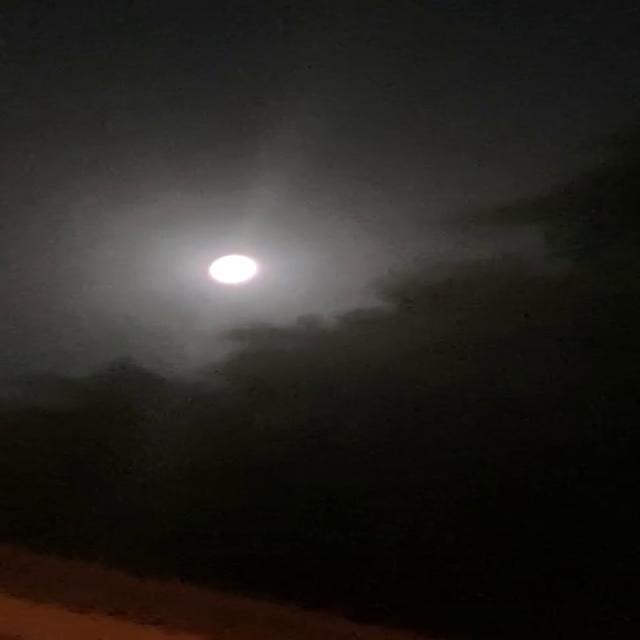moon: (194, 254, 277, 298)
